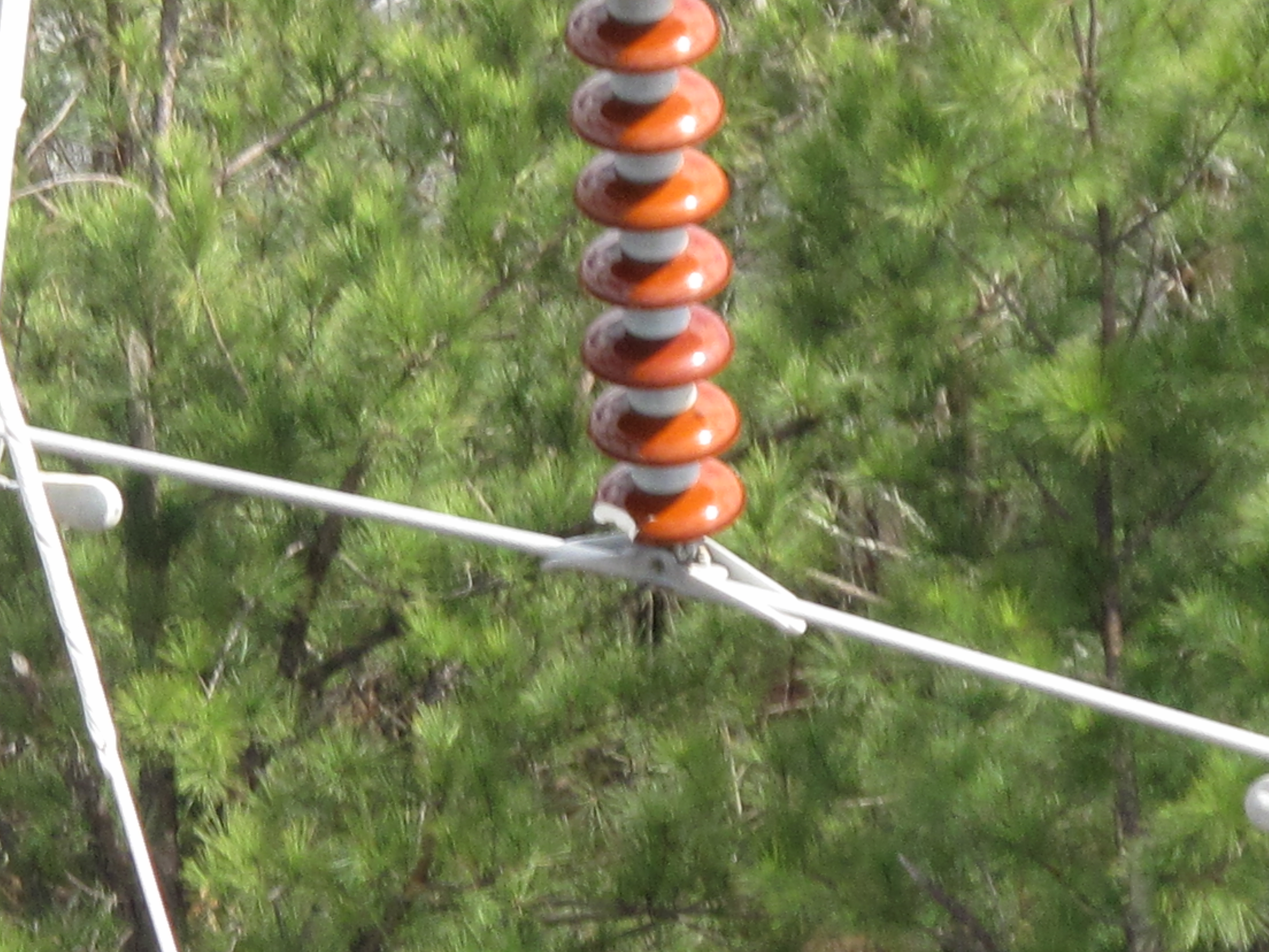damaged: (588, 490, 654, 544)
hammer: (0, 410, 116, 541)
insulator: (560, 0, 743, 551)
